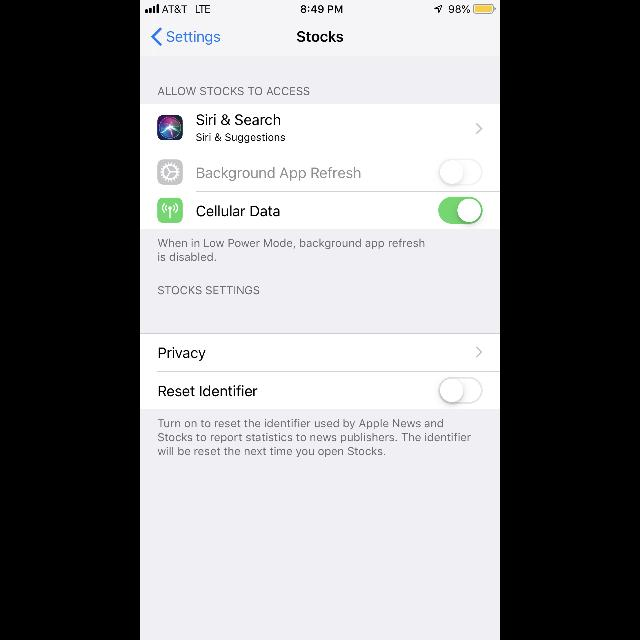icon: (158, 160, 182, 184), (152, 28, 162, 46), (476, 347, 482, 358), (476, 124, 482, 134)
image: (158, 116, 182, 140), (158, 198, 182, 222)
switch: (439, 158, 483, 186), (438, 376, 482, 404), (439, 198, 483, 225)
text: (157, 418, 470, 458), (158, 238, 424, 262), (197, 167, 361, 181), (158, 86, 310, 95), (197, 114, 281, 126), (158, 386, 258, 396), (196, 206, 280, 217), (197, 133, 286, 143), (158, 286, 260, 294), (168, 31, 220, 45), (158, 347, 206, 361), (297, 32, 343, 42)
uppertaskbar: (140, 0, 500, 14)
